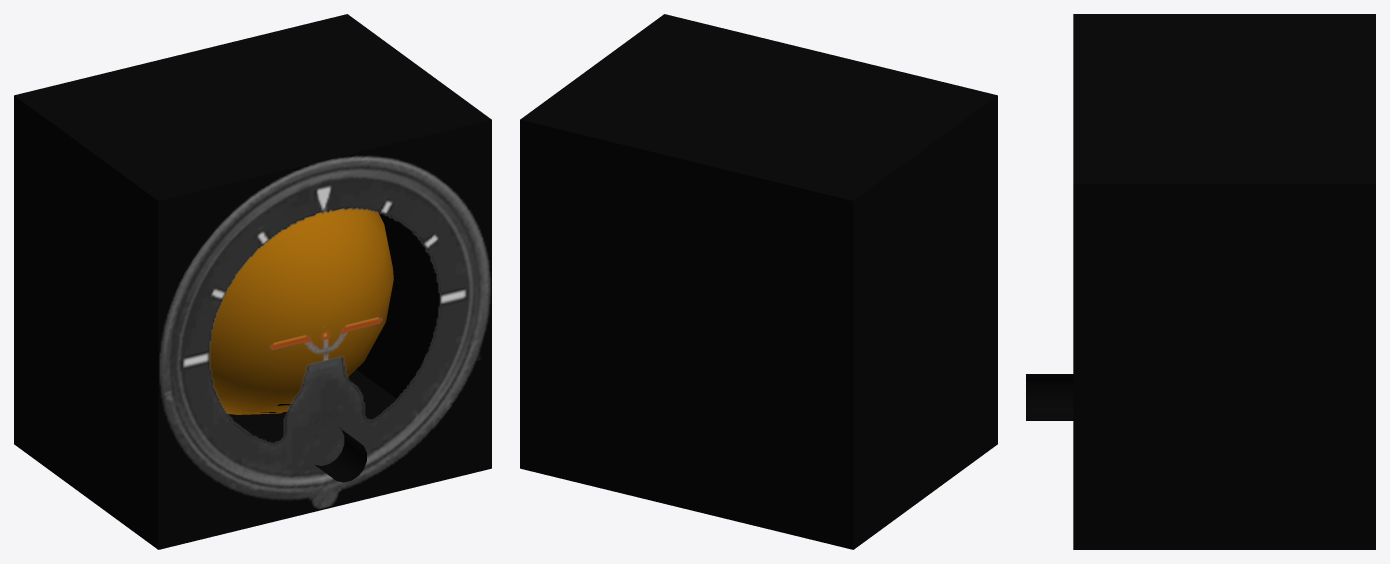
File: gau_ATI_face_round.glb
3 renders of one model, left to right at view 1: azimuth 30°, elevation 25°; view 2: azimuth 150°, elevation 25°; view 3: azimuth 270°, elevation 25°, orthographic. The views are drawn at different scales.
Visible parts, largest first — view 1: ATI, ATI_sphere; view 2: ATI; view 3: ATI.
Boxes of the visible parts, box(x1,y1,x2,y2) form: ATI: box(14, 14, 491, 549); ATI_sphere: box(209, 208, 393, 414); ATI: box(520, 14, 997, 549); ATI: box(1026, 14, 1375, 549).
Bounding box in the file's own units: 0.075 × 0.075 × 0.065.
Materials: 4 (2 with a texture image).
